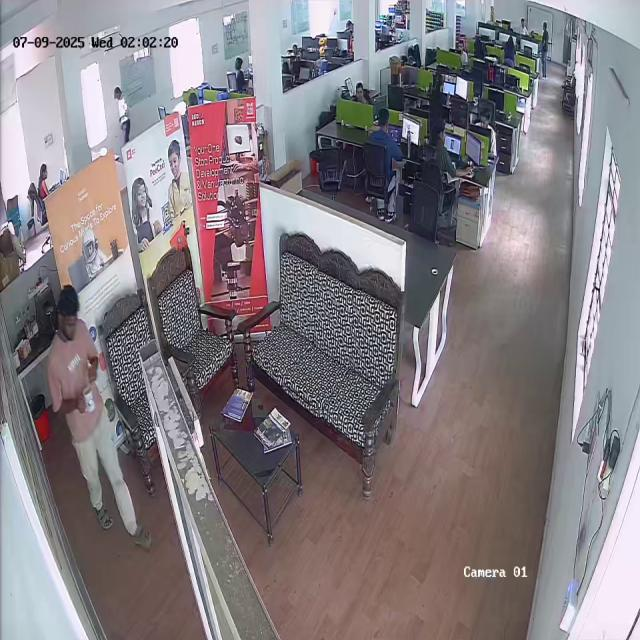person: (43, 284, 148, 562), (367, 108, 404, 211), (426, 122, 462, 210), (112, 86, 131, 143), (470, 108, 500, 140), (36, 162, 54, 205)
